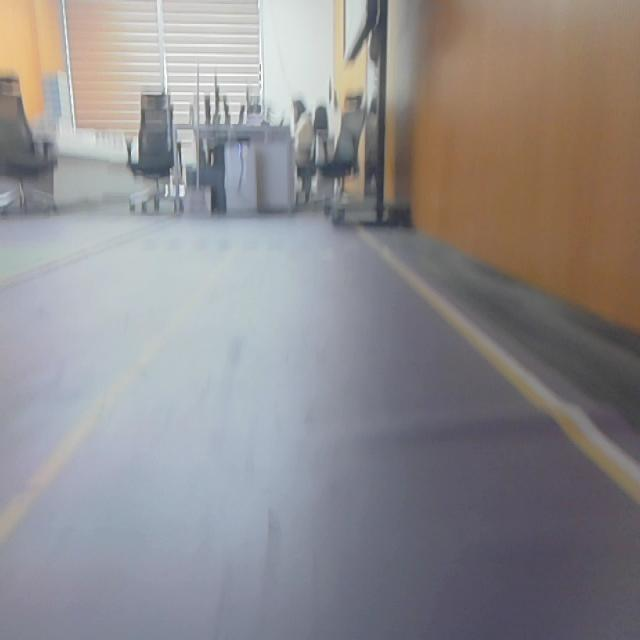left_lane: (2, 257, 232, 543)
right_lane: (375, 238, 640, 507)
